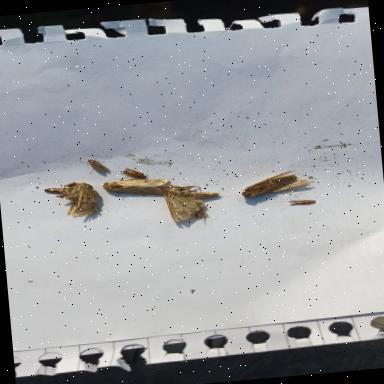abw: (163, 182, 225, 224), (101, 172, 167, 202), (240, 170, 310, 198), (66, 178, 96, 218)
pbw: (78, 156, 112, 175), (120, 166, 150, 181), (40, 184, 76, 196)
